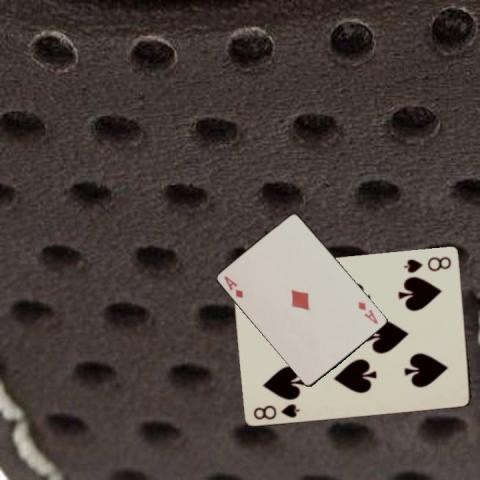8s: (400, 253, 452, 274), (251, 400, 301, 421)
Ad: (355, 299, 380, 325), (221, 274, 245, 300)
